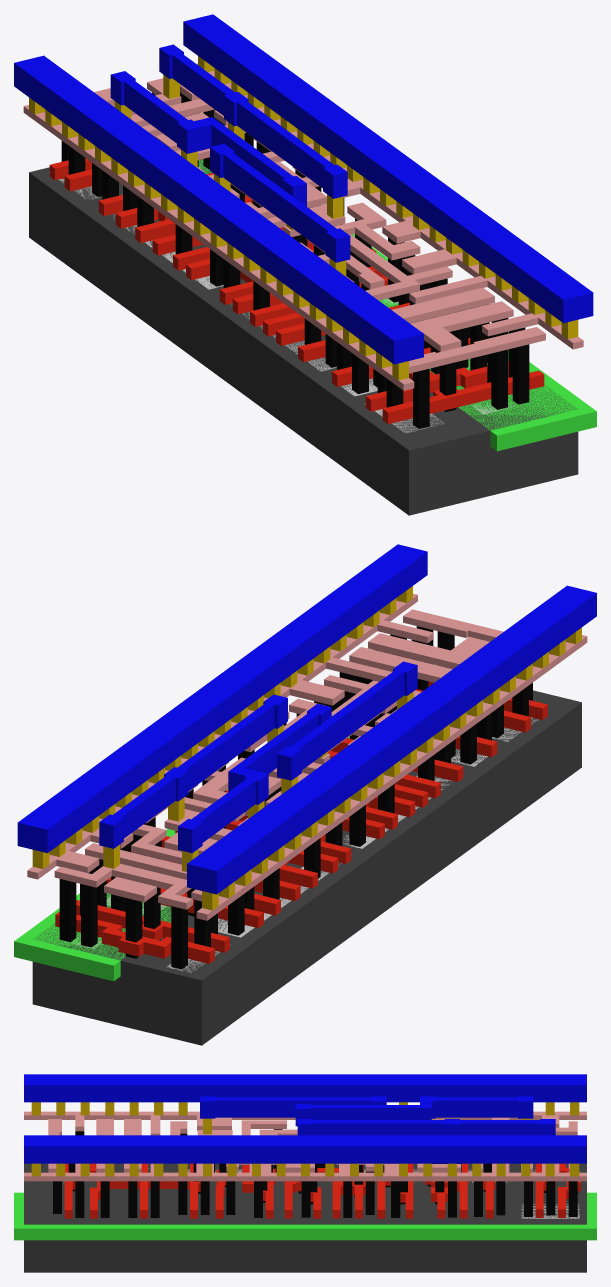
File: sky130_fd_sc_hd__dfsbp_1.obj
3 renders of one model, top to bottom at view 1: azimuth 30°, elevation 25°; view 2: azimuth 150°, elevation 25°; view 3: azimuth 270°, elevation 25°, orthographic. The views are drawn at different scales.
Parts seen in each view (by area): view 1: metal1, subs, li, licon, poly, mcon, nwell, diff; view 2: metal1, subs, li, licon, poly, mcon, nwell, diff; view 3: metal1, subs, li, nwell, licon, poly, mcon, tap.
Part boxes in pixels (left/top/right/bottom): metal1: left=14, top=14, right=593, bottom=364; subs: left=29, top=159, right=578, bottom=515; li: left=23, top=63, right=583, bottom=390; licon: left=61, top=87, right=529, bottom=428; poly: left=49, top=158, right=544, bottom=424; mcon: left=29, top=56, right=578, bottom=380; nwell: left=198, top=159, right=596, bottom=451; diff: left=49, top=172, right=445, bottom=433; metal1: left=17, top=544, right=596, bottom=894; subs: left=32, top=690, right=581, bottom=1045; li: left=27, top=593, right=587, bottom=920; licon: left=59, top=626, right=532, bottom=969; poly: left=55, top=681, right=547, bottom=963; mcon: left=32, top=586, right=581, bottom=910; nwell: left=14, top=664, right=433, bottom=981; diff: left=166, top=717, right=538, bottom=972; metal1: left=24, top=1074, right=586, bottom=1163; subs: left=24, top=1163, right=586, bottom=1272; li: left=24, top=1111, right=586, bottom=1181; nwell: left=14, top=1192, right=596, bottom=1240; licon: left=53, top=1129, right=578, bottom=1217; poly: left=64, top=1163, right=580, bottom=1218; mcon: left=31, top=1102, right=579, bottom=1176; tap: left=521, top=1204, right=579, bottom=1218.
Size of the model in its own units: 3.2 by 2.74 by 10.96.
